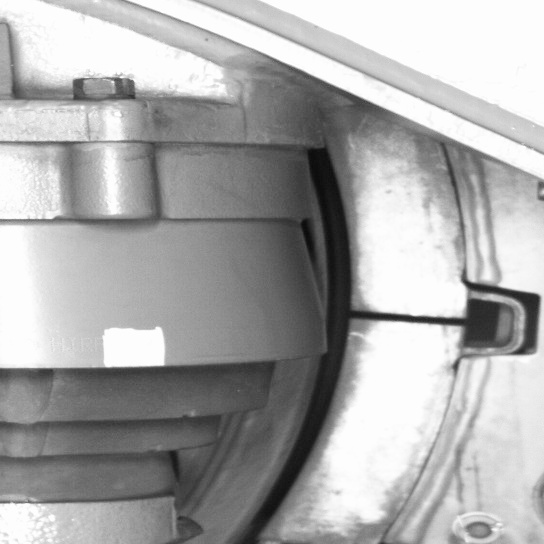KnifeSwitch: (222, 144, 484, 542)
